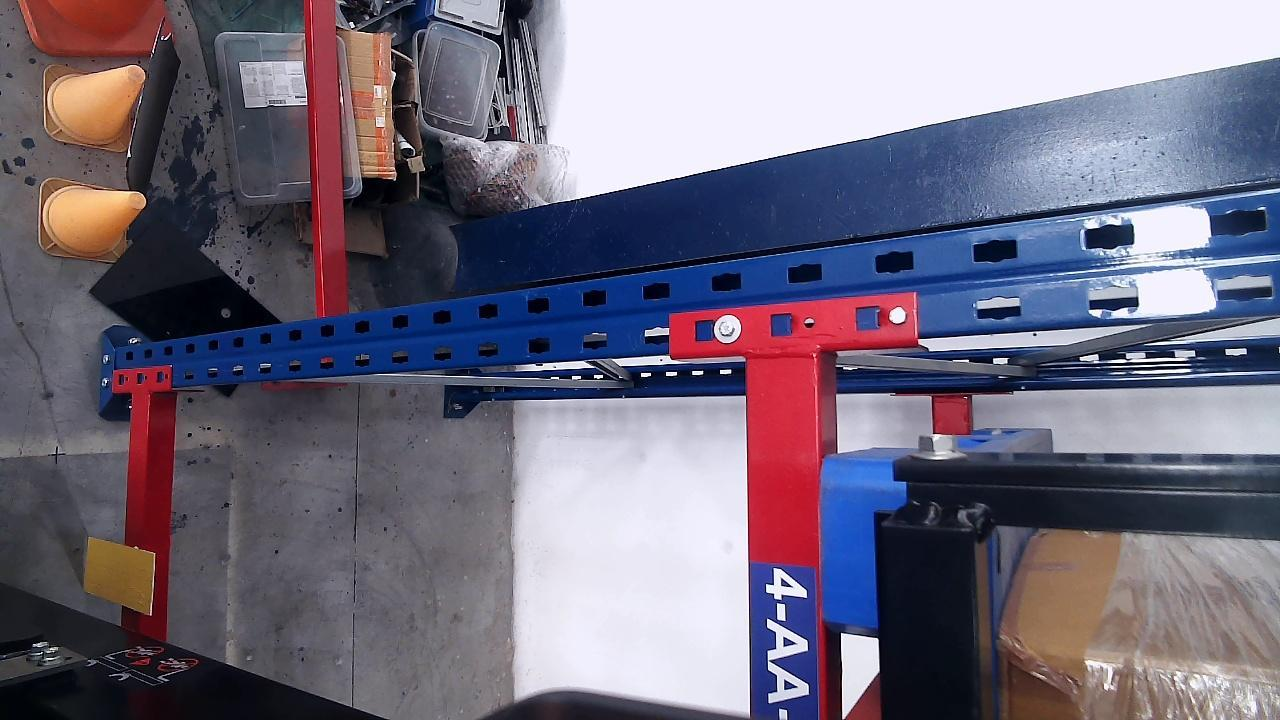h_rack: (743, 349, 822, 720), (119, 394, 154, 640)
orange_strip: (83, 540, 152, 612)
